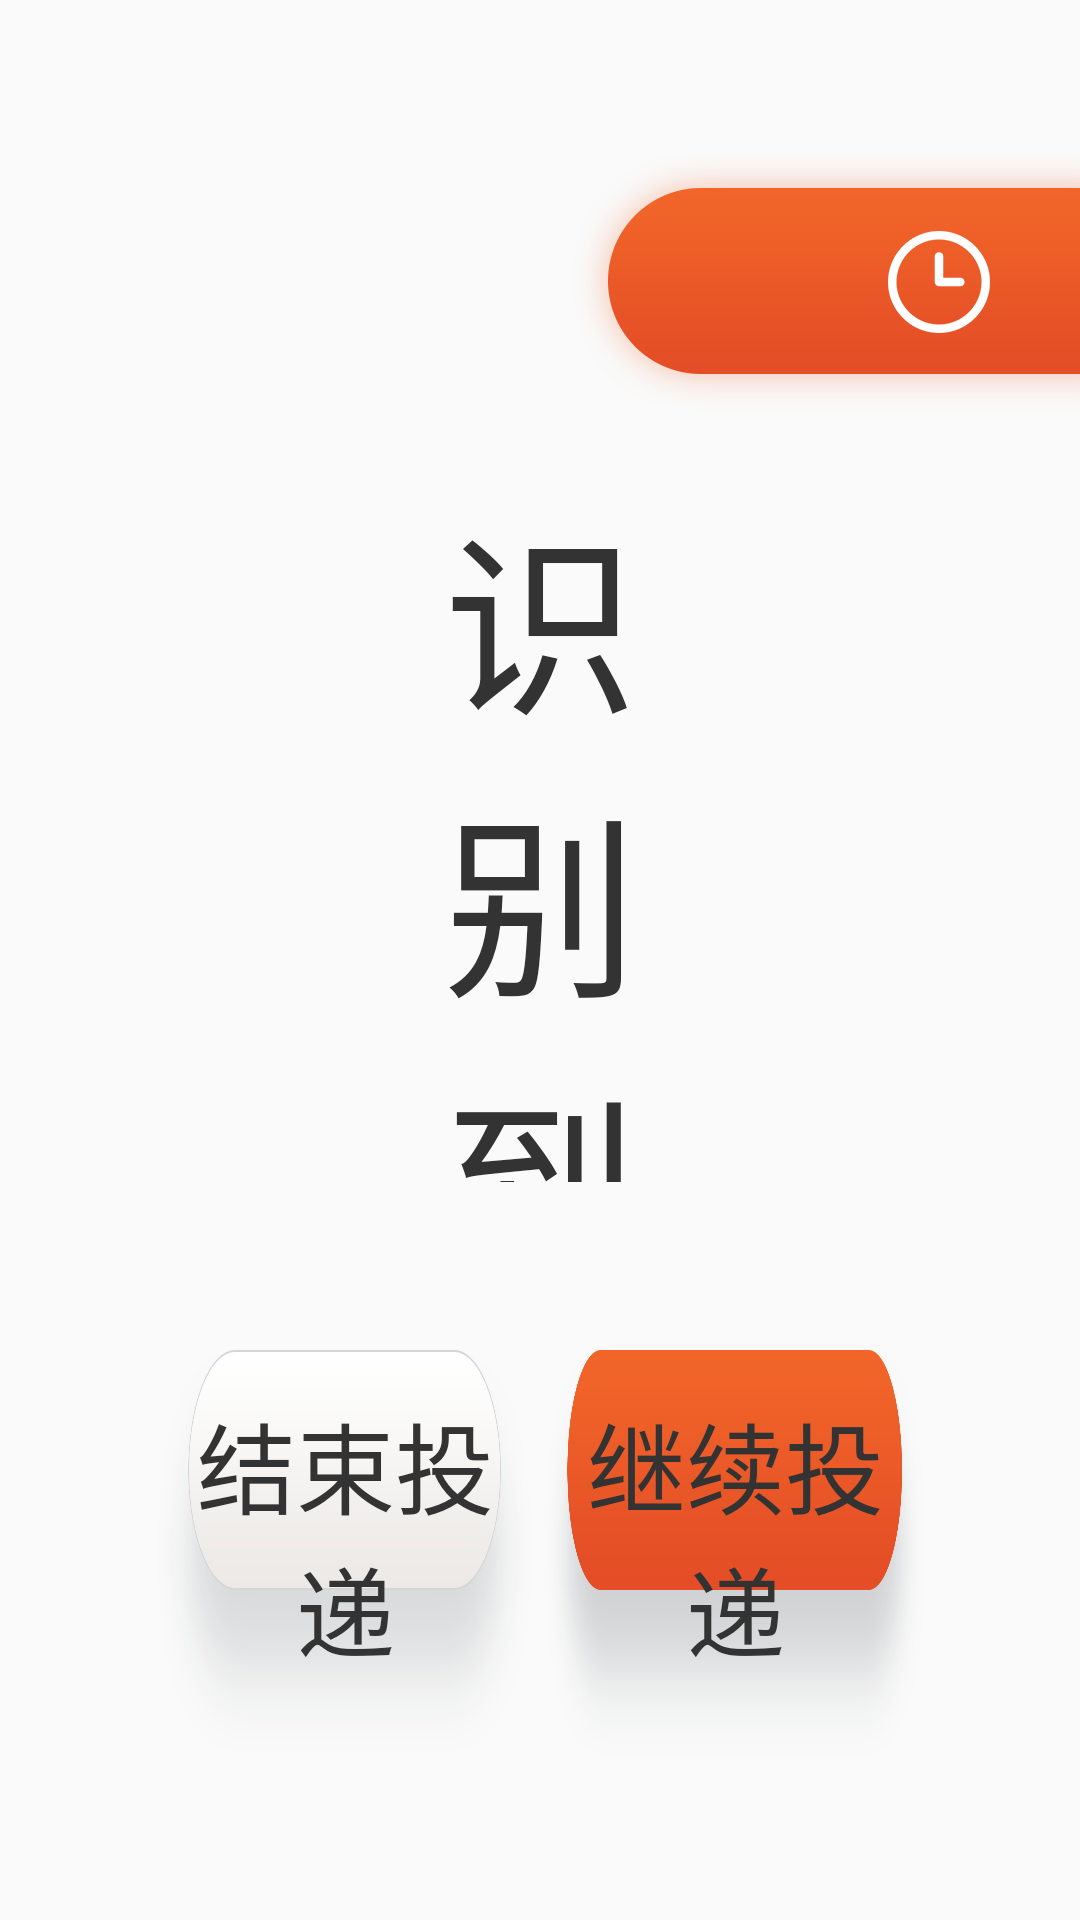

Screen size 1080*1920. Icon name, then its box in pixels as box=[x1, y1, x2, y2]:
timer whrite: box=[888, 231, 990, 333]
